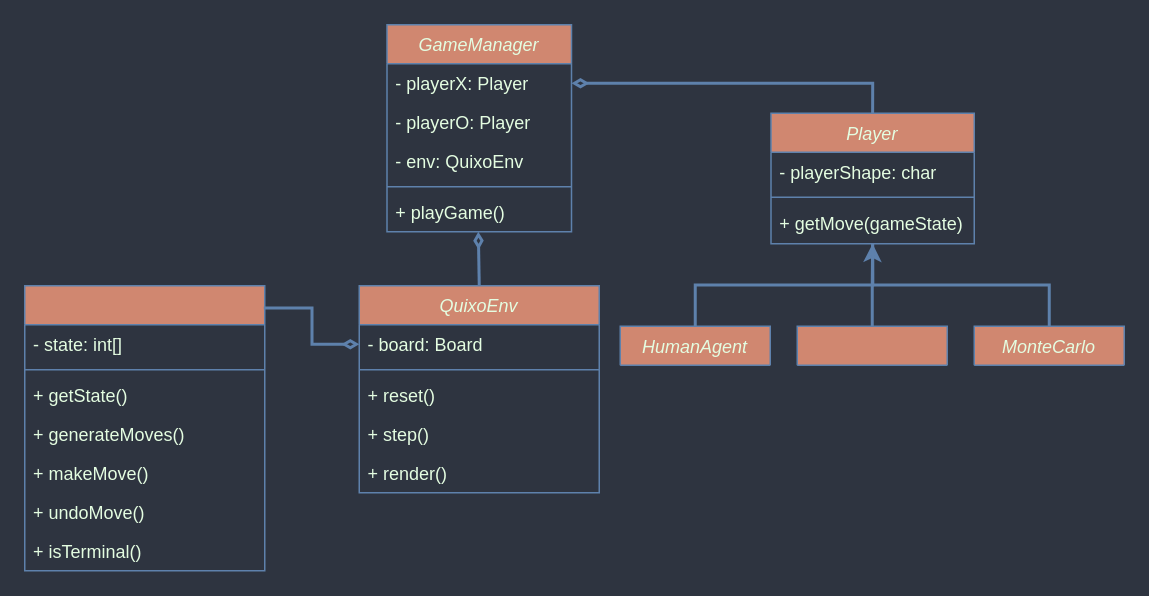
This 1149x596 diagram has some shape labels left out. Here are the shapes that lost their labels. From the top down, the box of each, then its label:
(796, 325, 947, 365): MinimaxAgent
(23, 284, 265, 571): Board
